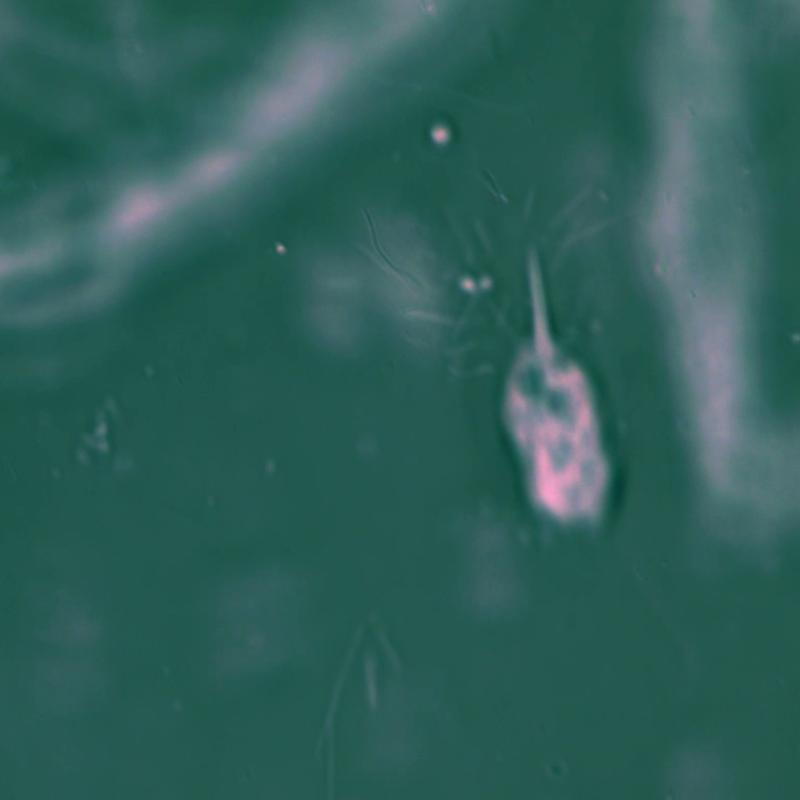depth:80: (466, 219, 643, 578)
